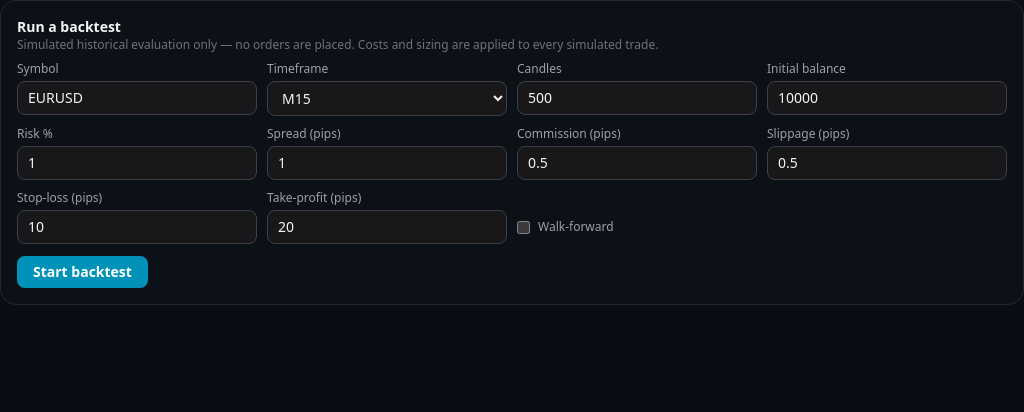
Test: BacktestConsole › surfaces a validation error from the backend
Click the button with test id "bt-start": [82, 272] box [17,256,148,288]
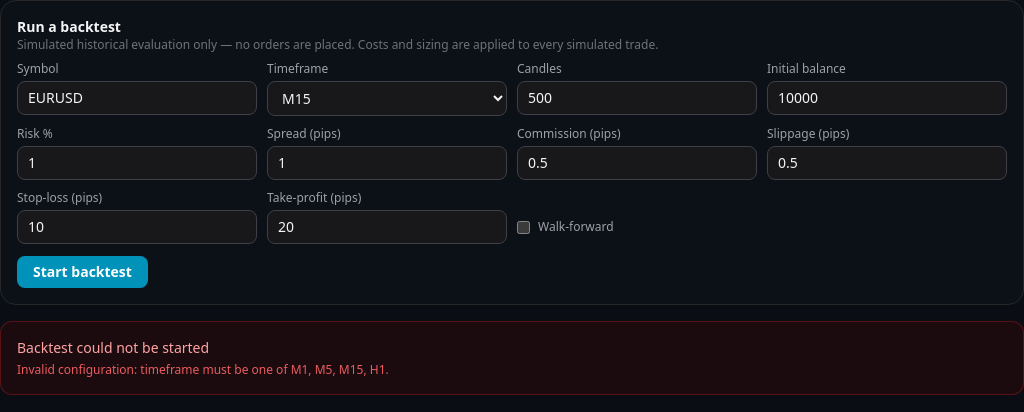
Result: the message with test id "error-state" shows "timeframe must be one of" at [17,361,389,378]
